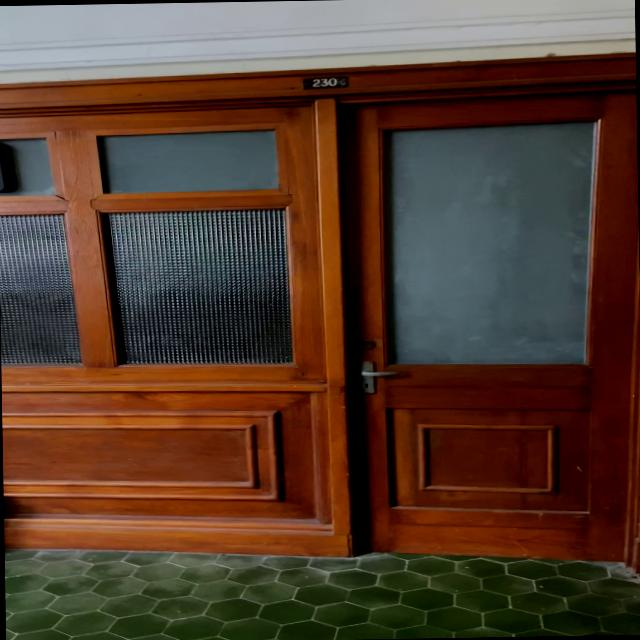room230: (301, 76, 348, 90)
